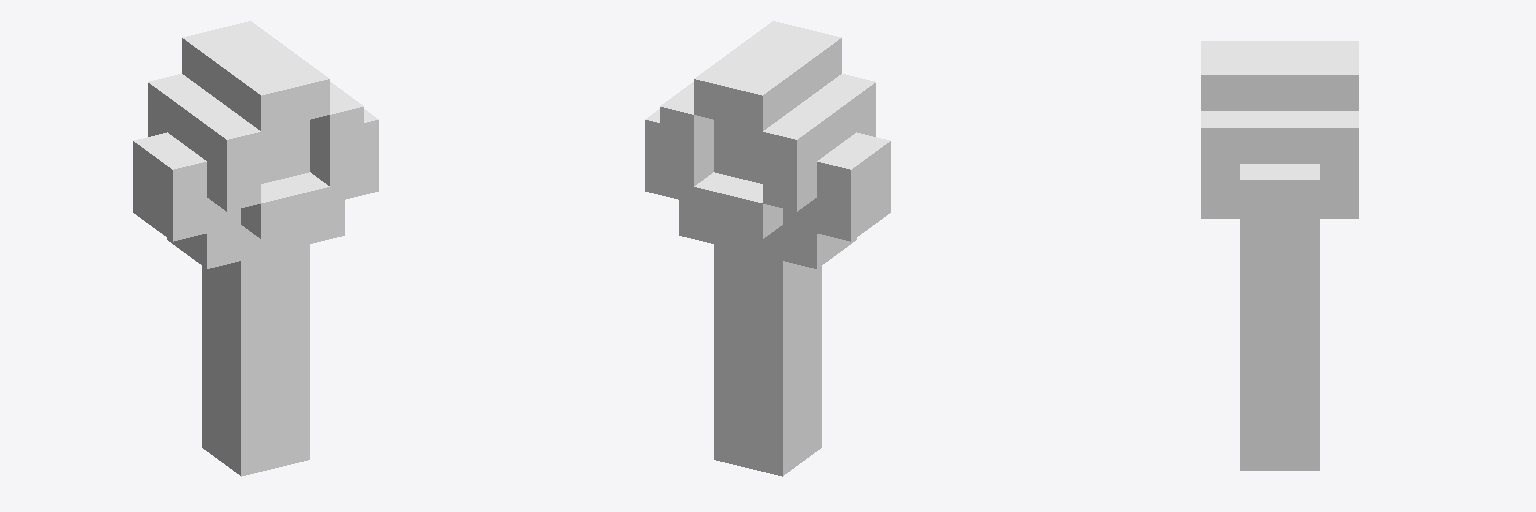
File: fazhangModel.obj
The picture shows the model from 3 angles: view 1: azimuth 30°, elevation 25°; view 2: azimuth 150°, elevation 25°; view 3: azimuth 270°, elevation 25°; orthographic projection.
Size of the model in its own units: 6 by 11 by 4.